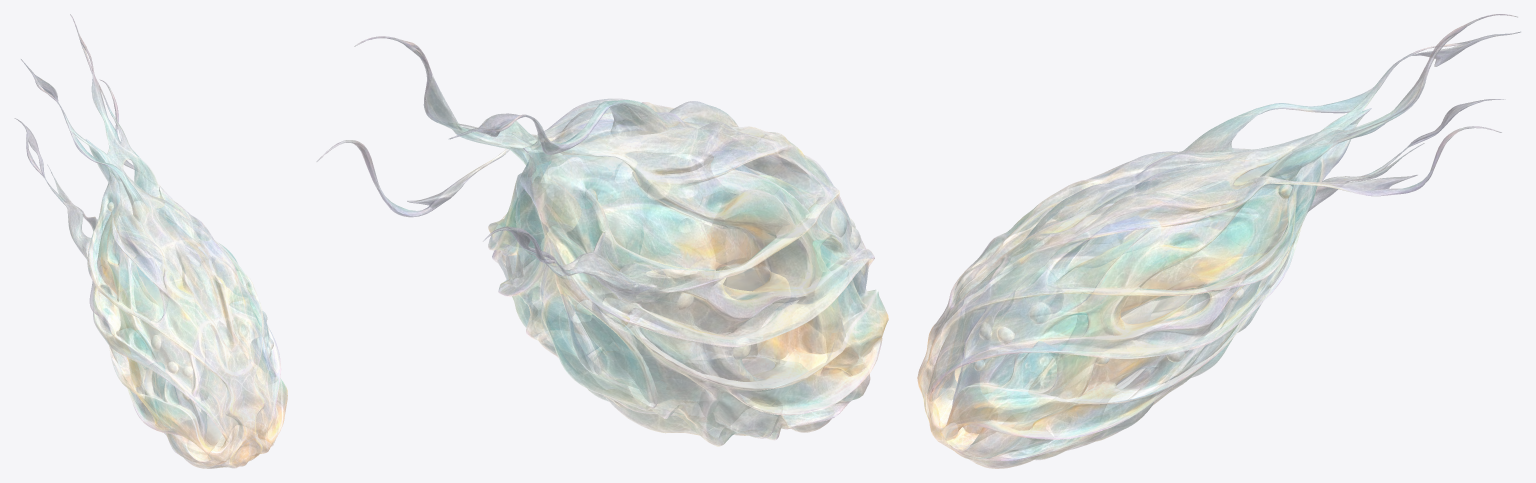
File: cell05.glb
3 renders of one model, left to right at view 1: azimuth 30°, elevation 25°; view 2: azimuth 150°, elevation 25°; view 3: azimuth 270°, elevation 25°, orthographic. The views are drawn at different scales.
Parts seen in each view (by area): view 1: Mesh_0; view 2: Mesh_0; view 3: Mesh_0.
Boxes of the visible parts, x1,y1,x2,y2 form: Mesh_0: (14,14,287,468); Mesh_0: (316,36,888,446); Mesh_0: (917,14,1520,468).
Bounding box in the file's own units: 0.7444 × 1.59 × 1.91.
Materials: 1 (1 with a texture image).
